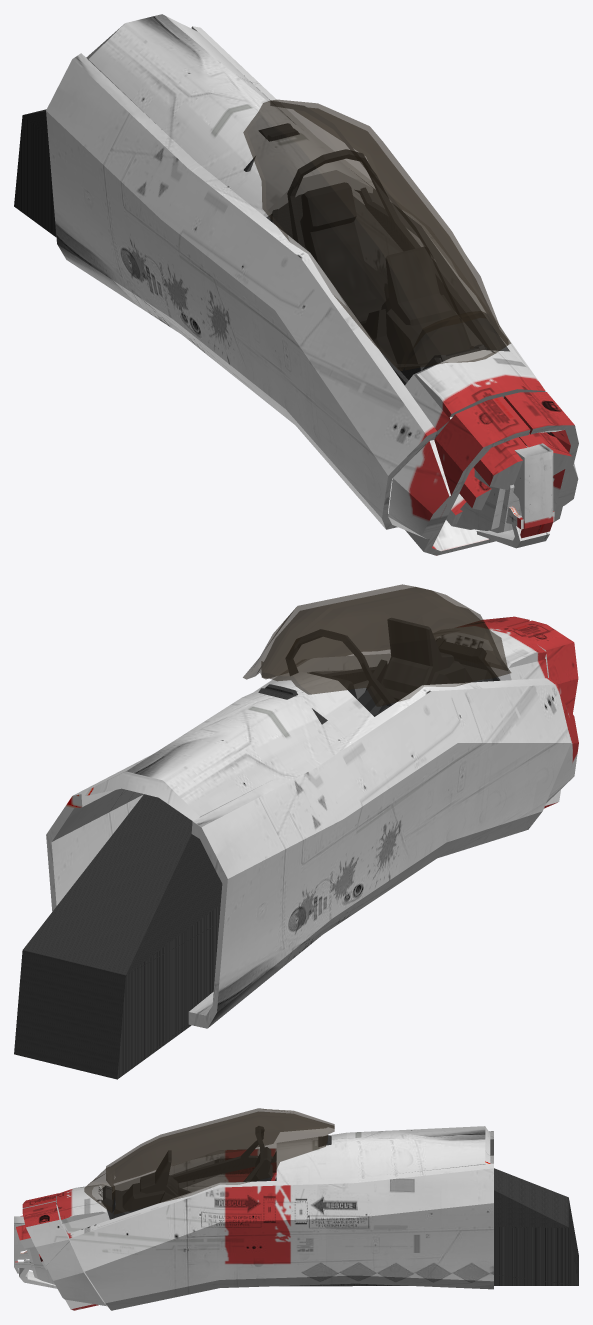
Rendered from head02.FBX.
3 renders of one model, top to bottom at view 1: azimuth 30°, elevation 25°; view 2: azimuth 150°, elevation 25°; view 3: azimuth 270°, elevation 25°, orthographic. The views are drawn at different scales.
Parts seen in each view (by area): view 1: head02, cockpit_glass01, cockpit01; view 2: head02, cockpit_glass01, cockpit01; view 3: head02, cockpit_glass01, cockpit01.
Boxes of the visible parts, bbox=[...] form: head02: bbox=[14, 14, 578, 555]; cockpit_glass01: bbox=[243, 99, 510, 370]; cockpit01: bbox=[244, 123, 496, 385]; head02: bbox=[14, 616, 578, 1079]; cockpit_glass01: bbox=[243, 584, 511, 706]; cockpit01: bbox=[258, 618, 500, 724]; head02: bbox=[14, 1126, 578, 1310]; cockpit_glass01: bbox=[84, 1108, 334, 1214]; cockpit01: bbox=[102, 1126, 331, 1219].
Bounding box in the file's own units: 174 × 281 × 787.
